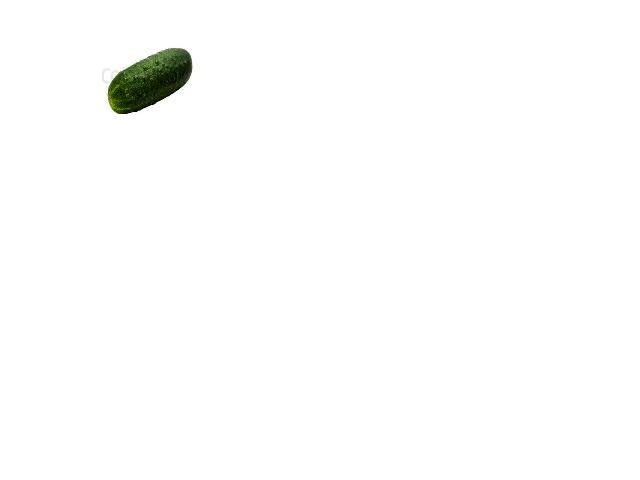cucumber: (108, 47, 192, 113)
